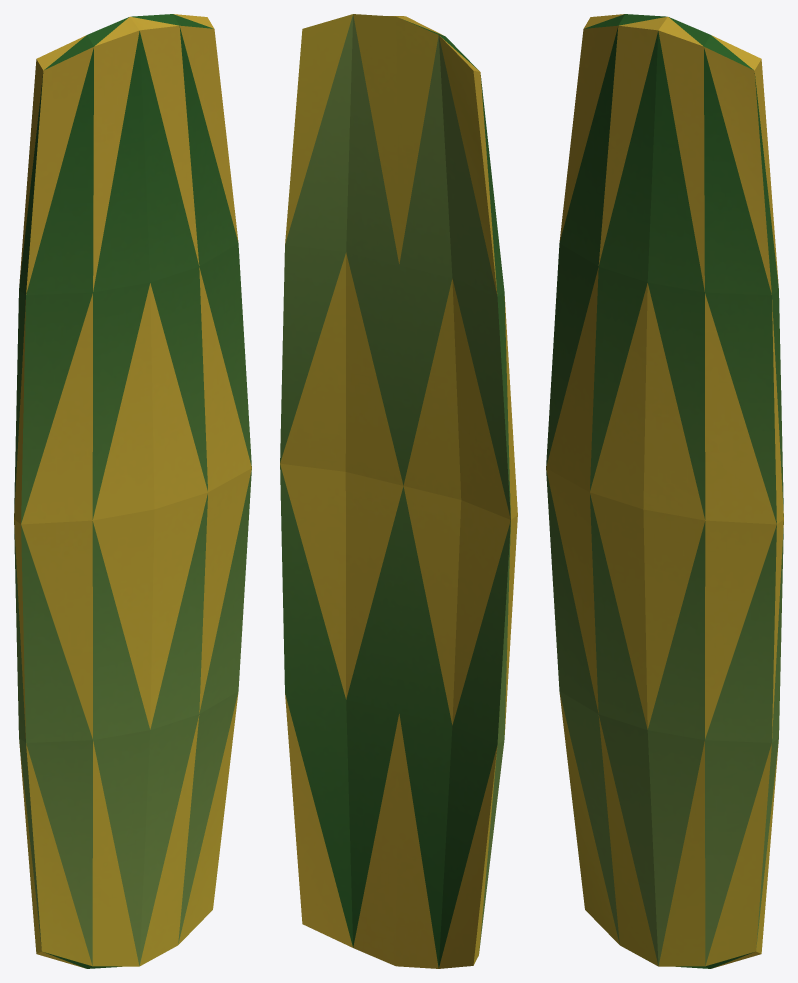
The model's file is Paddle_Board_2.fbx.
The picture shows the model from 3 angles, left to right: view 1: azimuth 30°, elevation 25°; view 2: azimuth 150°, elevation 25°; view 3: azimuth 330°, elevation 25°; orthographic projection.
Visible parts, largest first — view 1: pCube169; view 2: pCube169; view 3: pCube169.
Part boxes in pixels (x1=…): pCube169: x1=14, y1=14, x2=251, y2=968; pCube169: x1=280, y1=14, x2=517, y2=968; pCube169: x1=546, y1=14, x2=783, y2=968.
Size of the model in its own units: 94.46 by 371 by 23.1.
